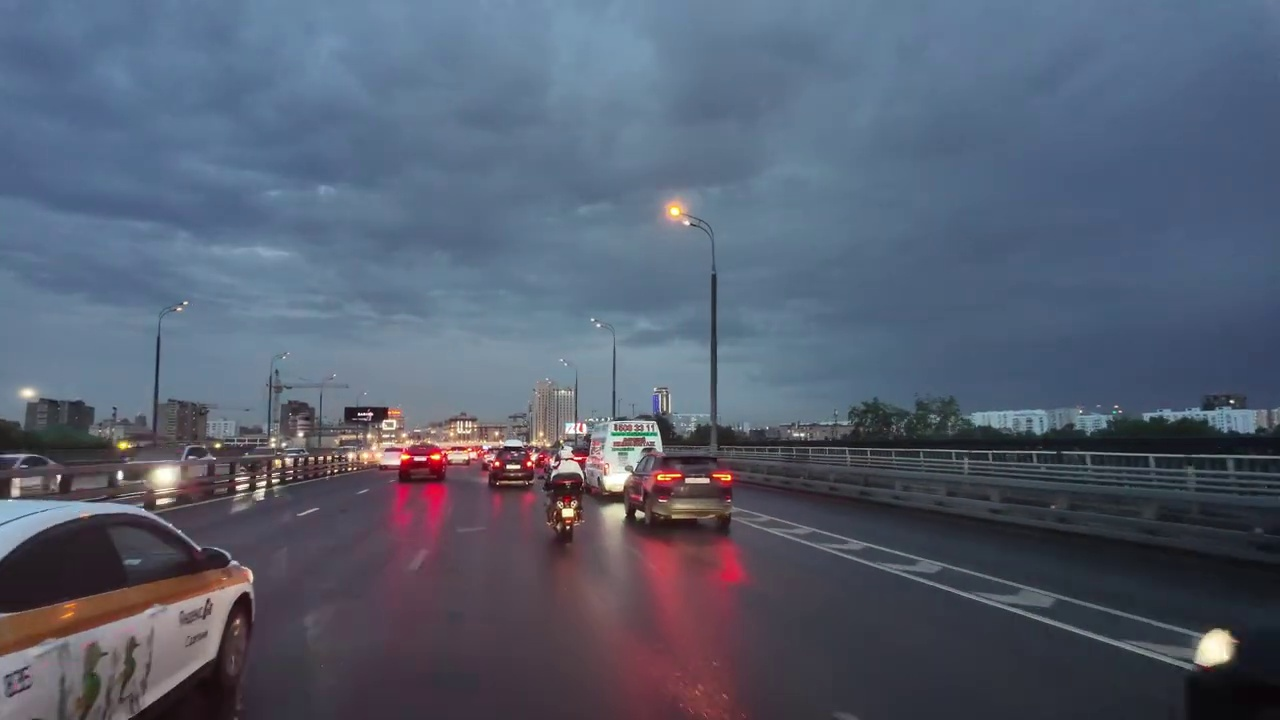acesa: (1196, 629, 1235, 669), (660, 197, 691, 228), (18, 383, 39, 405)
apagada: (169, 298, 191, 318)
